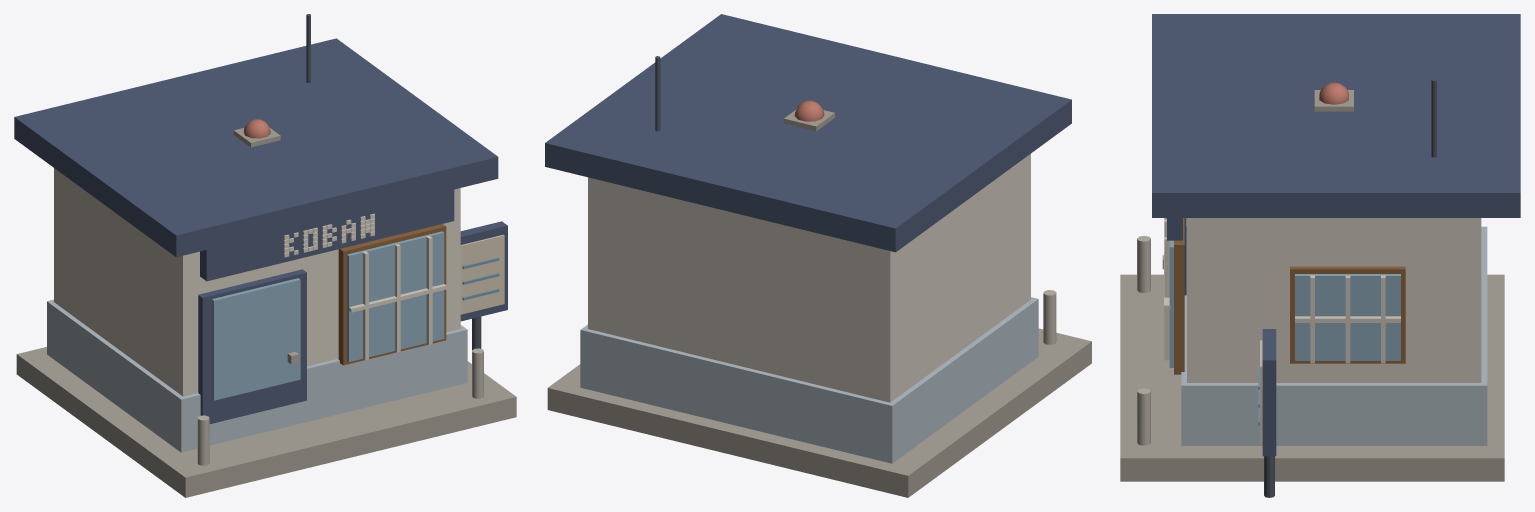
The model's file is komachi-koban.glb.
3 views of the same model, side by side, from view 1: azimuth 30°, elevation 25°; view 2: azimuth 150°, elevation 25°; view 3: azimuth 270°, elevation 25° (orthographic). The views are drawn at different scales.
Parts seen in each view (by area): view 1: Koban; view 2: Koban; view 3: Koban.
Boxes of the visible parts, <box> form: Koban: <box>14,14,516,497</box>; Koban: <box>545,14,1091,497</box>; Koban: <box>1120,14,1520,497</box>.
Bounding box in the file's own units: 1.29 × 1.02 × 1.02.
